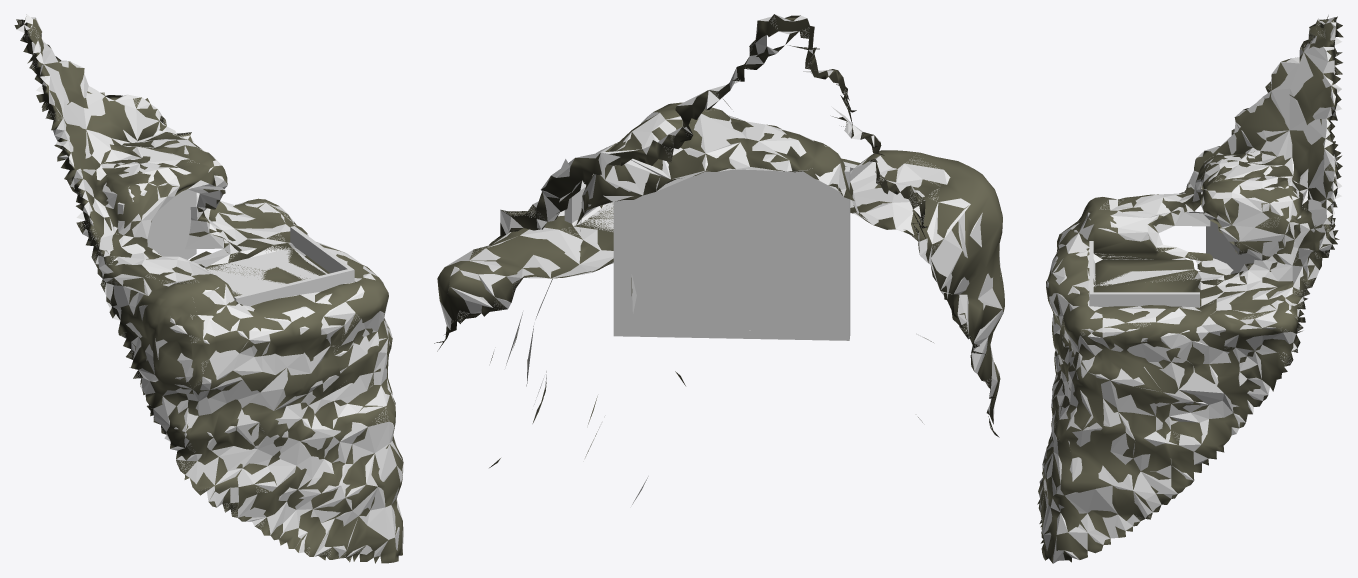
3 views of the same model, side by side, from view 1: azimuth 30°, elevation 25°; view 2: azimuth 150°, elevation 25°; view 3: azimuth 270°, elevation 25° (orthographic). The views are drawn at different scales.
Parts seen in each view (by area): view 1: outcrop_rock, outcrop_col, outcrop_rails_col, outcrop_mouth_plug_col; view 2: outcrop_mouth_plug_col, outcrop_rock, outcrop_col; view 3: outcrop_rock, outcrop_col, outcrop_rails_col, outcrop_mouth_plug_col.
Boxes of the visible parts, bbox=[...] form: outcrop_rock: bbox=[14, 18, 403, 563]; outcrop_col: bbox=[17, 14, 403, 560]; outcrop_rails_col: bbox=[234, 226, 354, 305]; outcrop_mouth_plug_col: bbox=[117, 189, 196, 259]; outcrop_mouth_plug_col: bbox=[613, 167, 850, 340]; outcrop_rock: bbox=[434, 14, 1004, 467]; outcrop_col: bbox=[440, 14, 1003, 504]; outcrop_rock: bbox=[1037, 15, 1343, 563]; outcrop_col: bbox=[1039, 17, 1341, 563]; outcrop_rails_col: bbox=[1089, 241, 1199, 307]; outcrop_mouth_plug_col: bbox=[1206, 221, 1253, 274].
Size of the model in its own units: 17.68 by 32.52 by 20.21.
